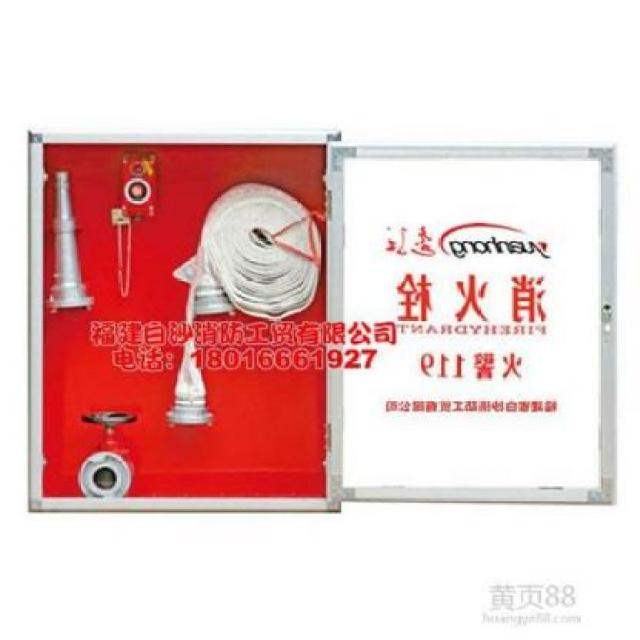firehydrant: (21, 125, 624, 526)
